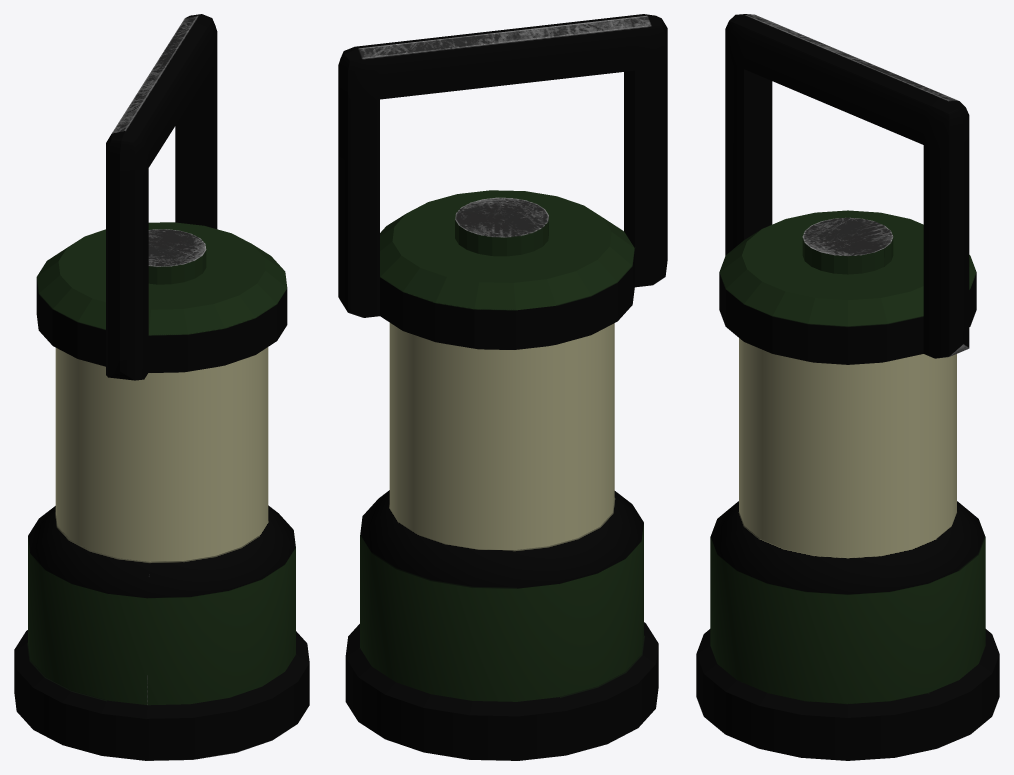
The model's file is Lamp.fbx.
3 renders of one model, left to right at view 1: azimuth 30°, elevation 25°; view 2: azimuth 150°, elevation 25°; view 3: azimuth 270°, elevation 25°, orthographic. The views are drawn at different scales.
Visible parts, largest first — view 1: Lamp; view 2: Lamp; view 3: Lamp.
Part boxes in pixels (x1=…): Lamp: x1=14, y1=14, x2=309, y2=760; Lamp: x1=338, y1=14, x2=667, y2=760; Lamp: x1=696, y1=14, x2=999, y2=760.
Bounding box in the file's own units: 3.48 × 8.09 × 3.48.
